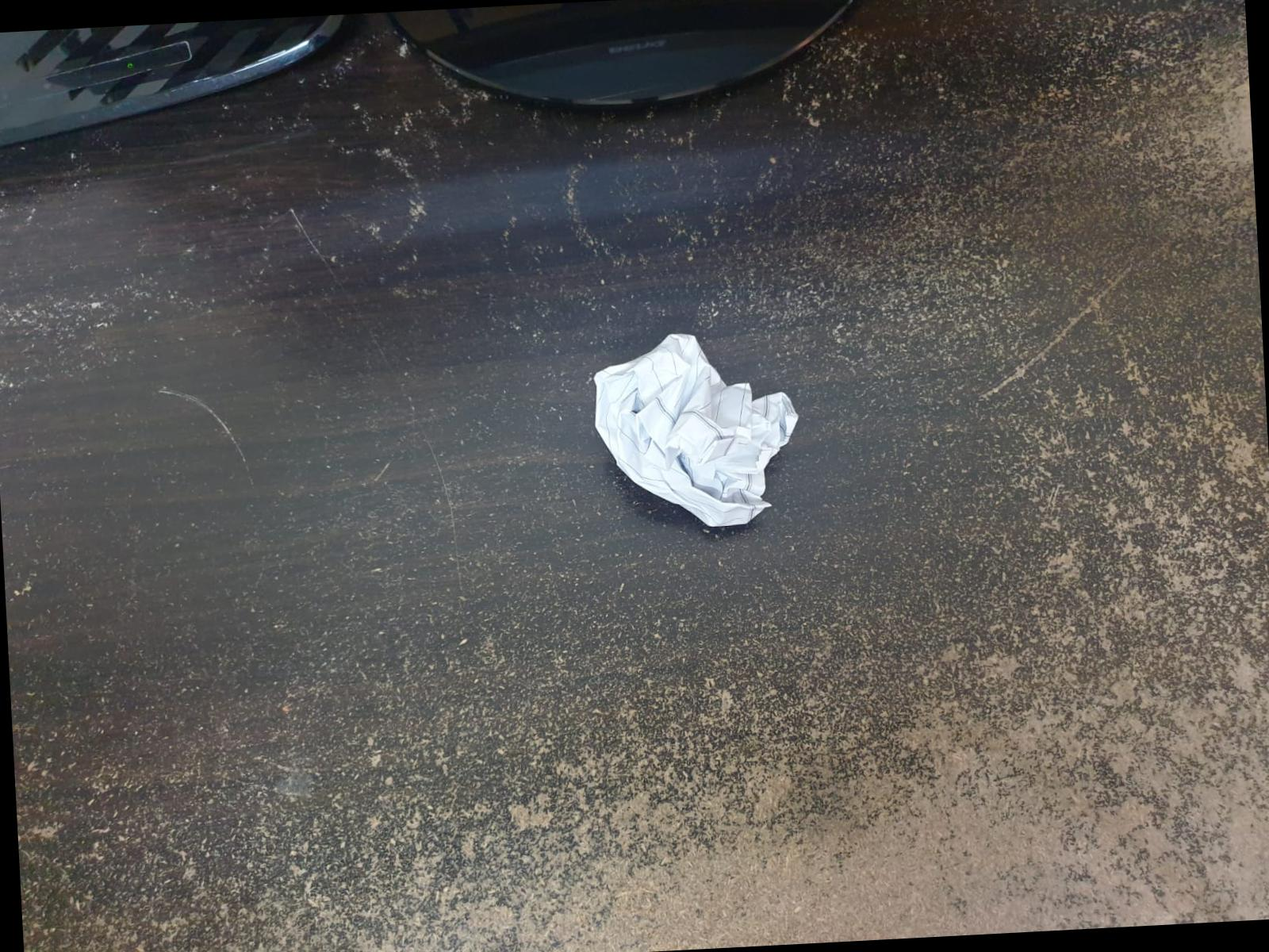Kertas: (588, 333, 799, 528)
